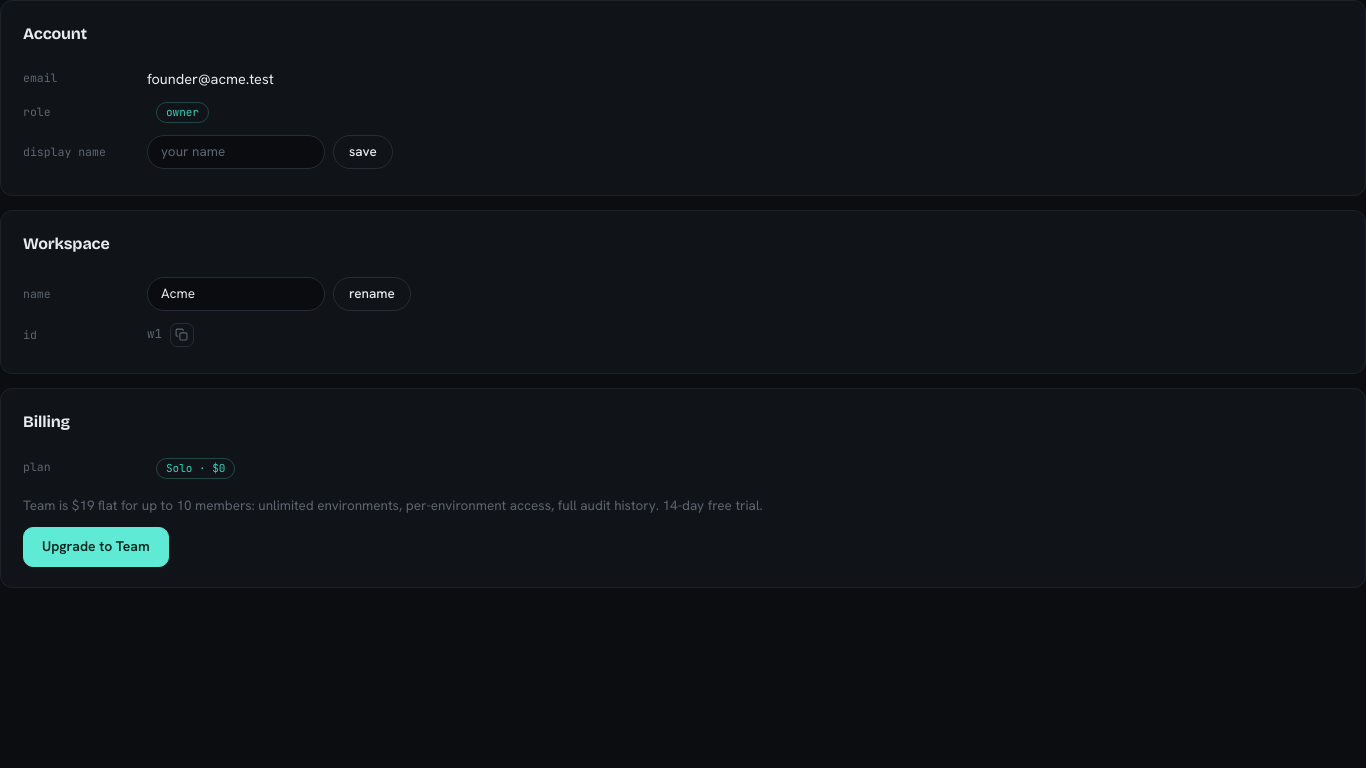
Test: Billing (Settings) — #71 › checkout.completed polls the workspace and lands on the Team plan
Click the button "Upgrade to Team".
click(96, 547)  # box [23,527,169,567]
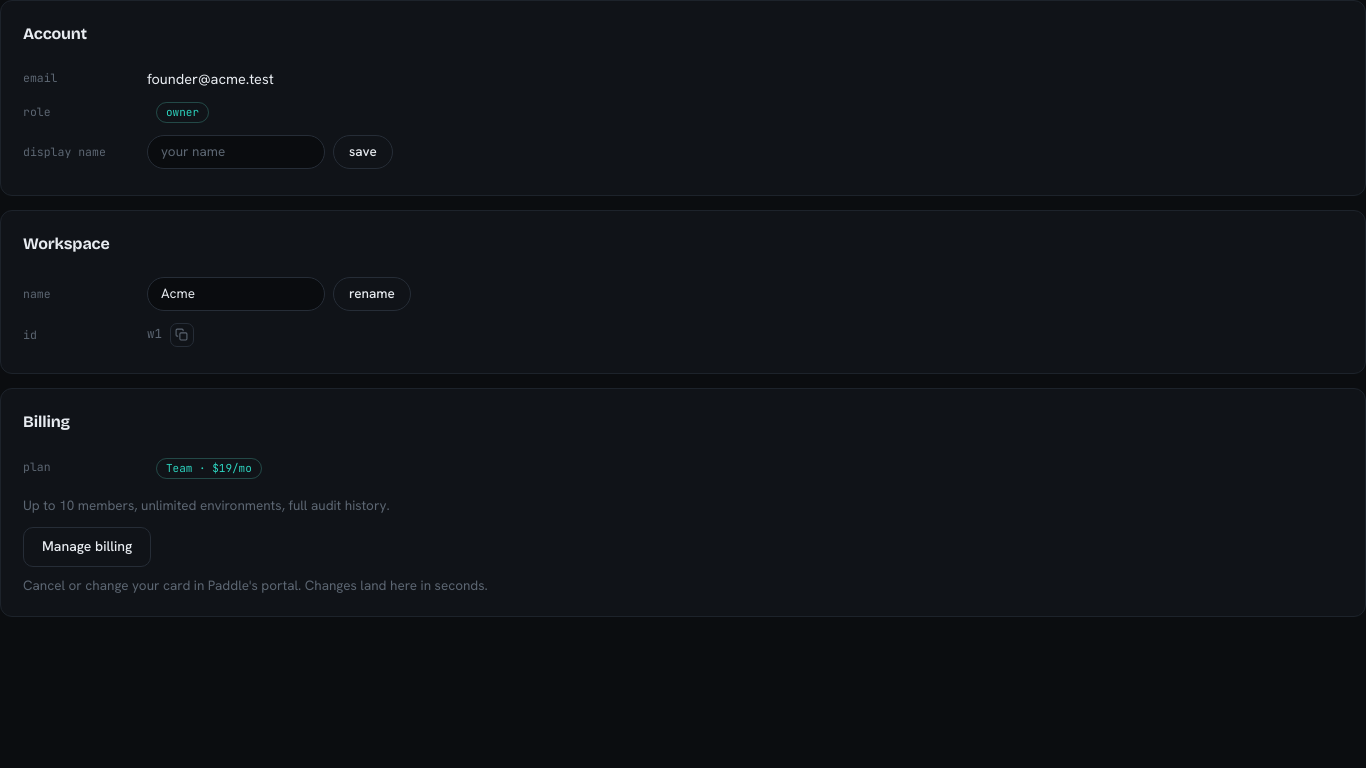
Check: the text "Team · $19/mo" is shown, box [156,458,262,479]
Check: the button "Upgrade to Team" is gone
